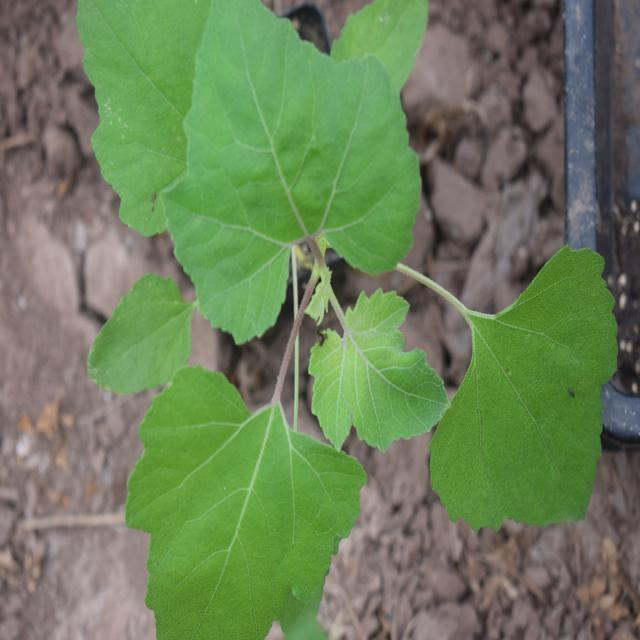cocklebur: (75, 6, 612, 614)
